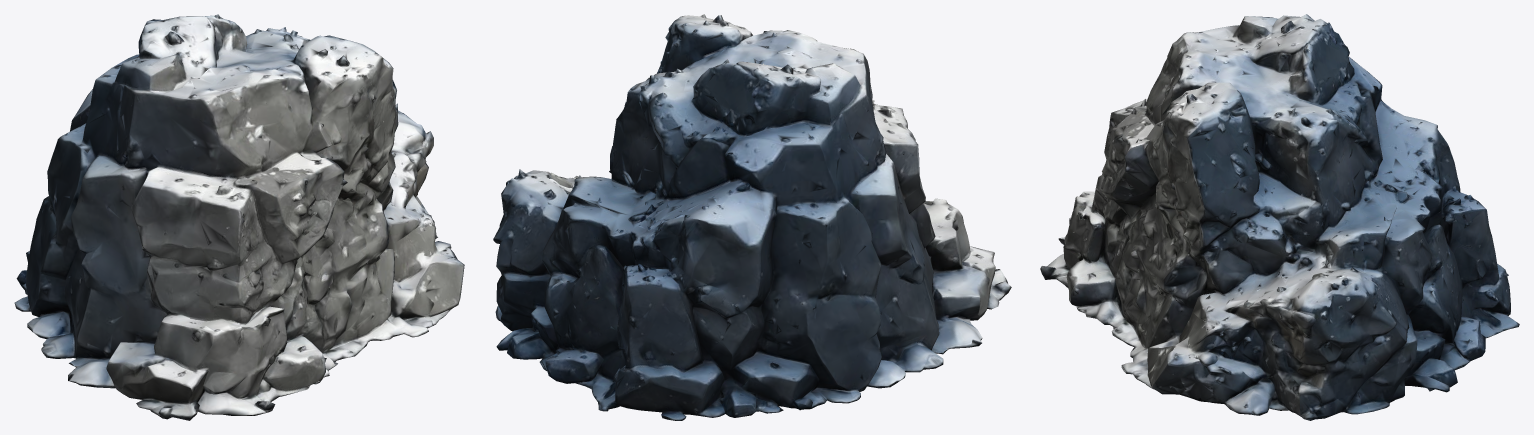
File: snowrock-high.glb
3 renders of one model, left to right at view 1: azimuth 30°, elevation 25°; view 2: azimuth 150°, elevation 25°; view 3: azimuth 270°, elevation 25°, orthographic. The views are drawn at different scales.
Bounding box in the file's own units: 0.9824 × 0.6245 × 0.9962.
Materials: 1 (1 with a texture image).
